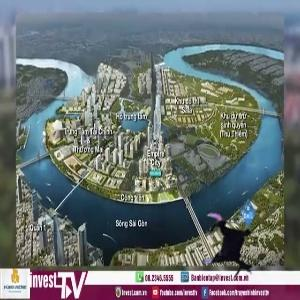drone: (187, 207, 268, 288)
